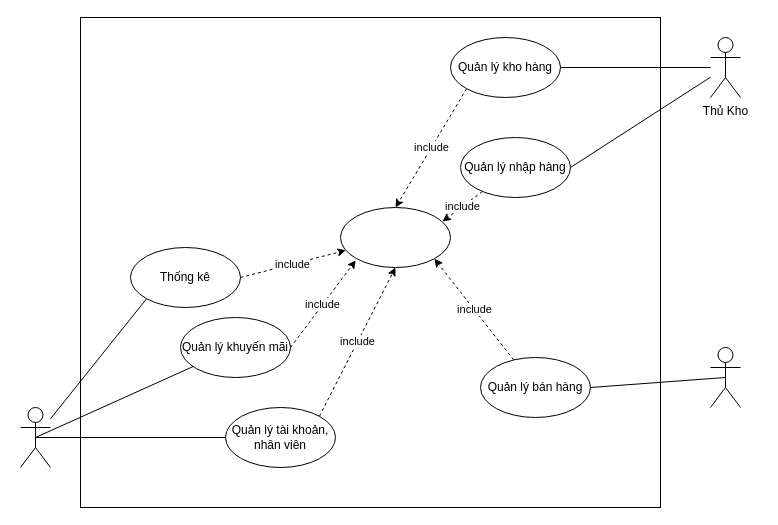
The diagram is 778 pixels wide and 525 high, and some of its shapes have lost their labels. Here are the shapes that lost their labels. From the top down, the centre of each, then its label:
At [395,237]: "Đăng nhập vào hệ thống".
At [725,377]: "NV Bán hàng".
At [35,437]: "Thư ký".
